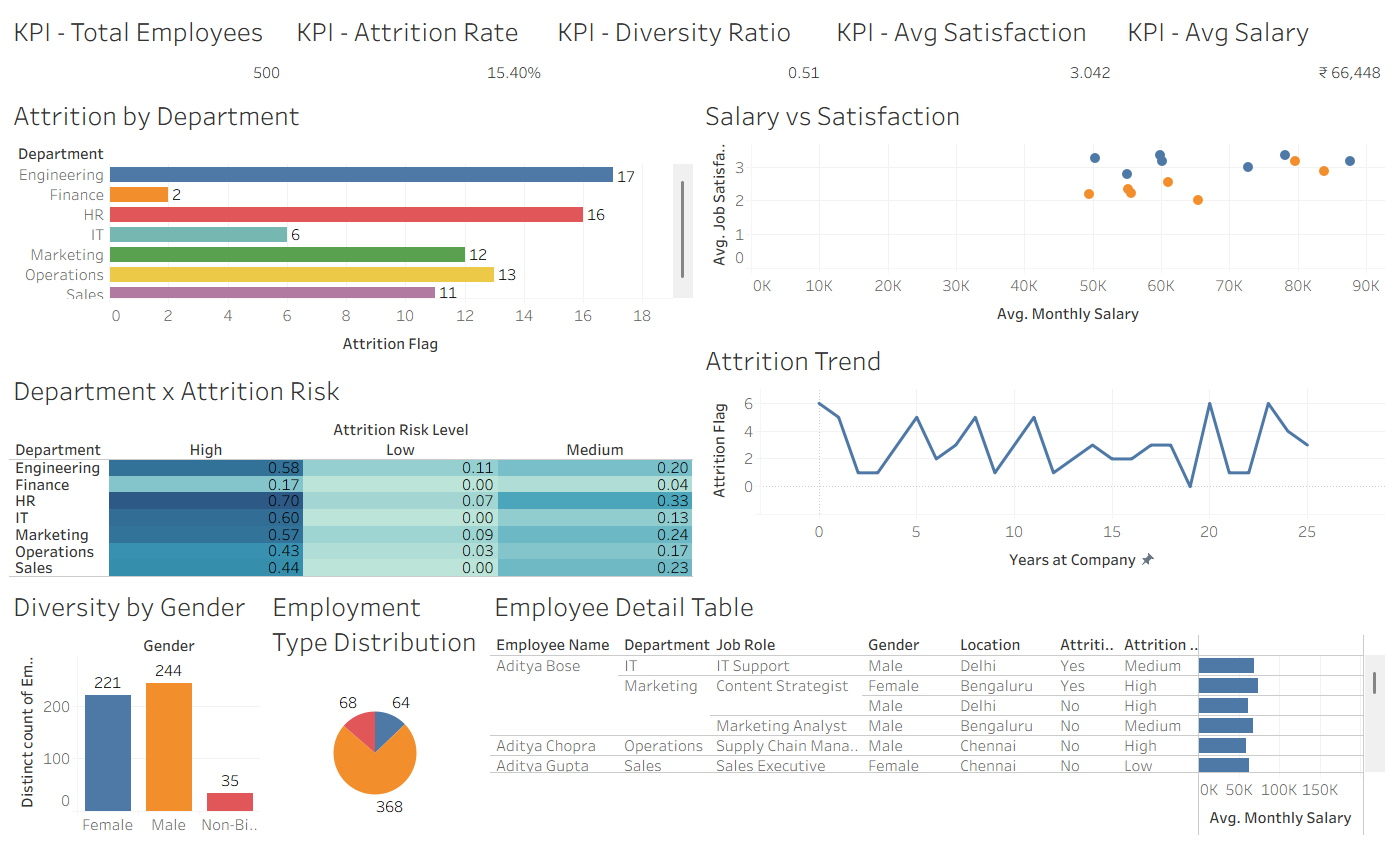

What the dashboard file says about the page in this screenshot:
{"tool":"tableau","page":{"name":"Dashboard","canvas":[1400,850],"ordinal":0},"visuals":[{"type":"worksheet","title":"KPI - Total Employees","mark":"Automatic","box":[8,8,283,84]},{"type":"worksheet","title":"KPI - Attrition Rate","mark":"Automatic","box":[291,8,261,84]},{"type":"worksheet","title":"KPI - Diversity Ratio","mark":"Automatic","box":[552,8,279,84]},{"type":"worksheet","title":"KPI - Avg Satisfaction","mark":"Automatic","box":[831,8,291,84]},{"type":"worksheet","title":"KPI - Avg Salary","mark":"Automatic","box":[1122,8,270,84]},{"type":"worksheet","title":"Attrition by Department","mark":"Bar","rows":["Department"],"cols":["Attrition Flag"],"box":[8,92,692,275]},{"type":"worksheet","title":"Salary vs Satisfaction","mark":"Circle","rows":["Job Satisfaction Score"],"cols":["Monthly Salary"],"box":[700,92,692,245]},{"type":"worksheet","title":"Attrition Trend","mark":"Line","rows":["Attrition Flag"],"cols":["Years at Company"],"box":[700,337,692,246]},{"type":"worksheet","title":"Department x Attrition Risk","mark":"Square","rows":["Department"],"cols":["Attrition Risk Level"],"box":[8,367,692,216]},{"type":"worksheet","title":"Diversity by Gender","mark":"Bar","rows":["Employee ID"],"cols":["Gender"],"box":[8,583,259,259]},{"type":"worksheet","title":"Employment Type Distribution","mark":"Pie","box":[267,583,222,259]},{"type":"worksheet","title":"Employee Detail Table","mark":"Automatic","rows":["Employee Name","Department","Job Role","Gender","Location","Attrition Status","Attrition Risk Level"],"cols":["Monthly Salary"],"box":[489,583,903,259]}]}

Visuals, with their boxes in screenshot pixels (x1, y1, x2, y2), scaled from the page's 1400x850 canvas onto the 1395x847 screenshot:
"KPI - Total Employees" worksheet: 8 8 290 92
"KPI - Attrition Rate" worksheet: 290 8 550 92
"KPI - Diversity Ratio" worksheet: 550 8 828 92
"KPI - Avg Satisfaction" worksheet: 828 8 1118 92
"KPI - Avg Salary" worksheet: 1118 8 1387 92
"Attrition by Department" worksheet (Bar marks): 8 92 698 366
"Salary vs Satisfaction" worksheet (Circle marks): 698 92 1387 336
"Attrition Trend" worksheet (Line marks): 698 336 1387 581
"Department x Attrition Risk" worksheet (Square marks): 8 366 698 581
"Diversity by Gender" worksheet (Bar marks): 8 581 266 839
"Employment Type Distribution" worksheet (Pie marks): 266 581 487 839
"Employee Detail Table" worksheet: 487 581 1387 839
